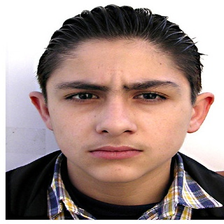no_mask: (48, 43, 188, 177)
